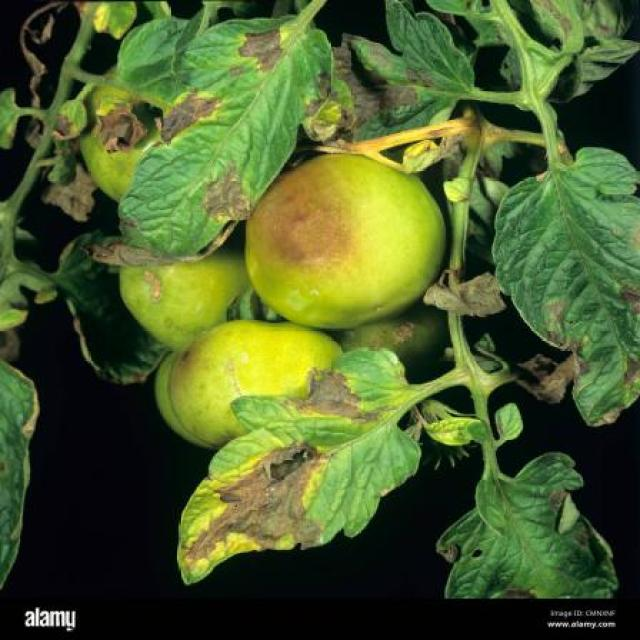Early Blight: (176, 343, 424, 586), (118, 13, 336, 264), (488, 143, 640, 427)
